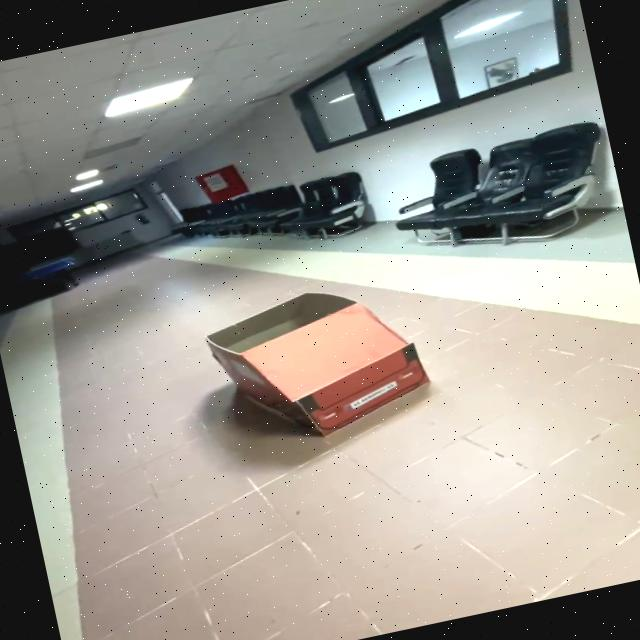red_car: (176, 258, 458, 476)
